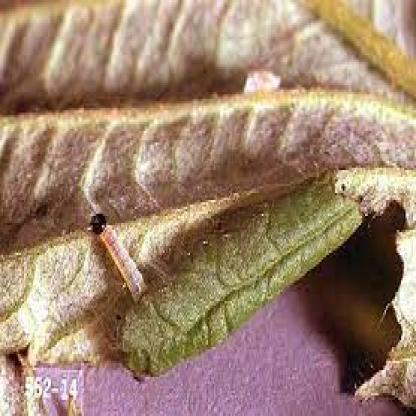sawfly: (89, 208, 148, 311)
